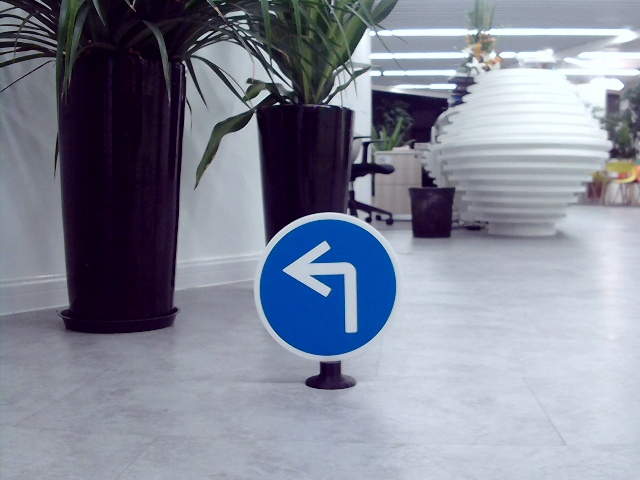turn_left: (284, 237, 364, 336)
